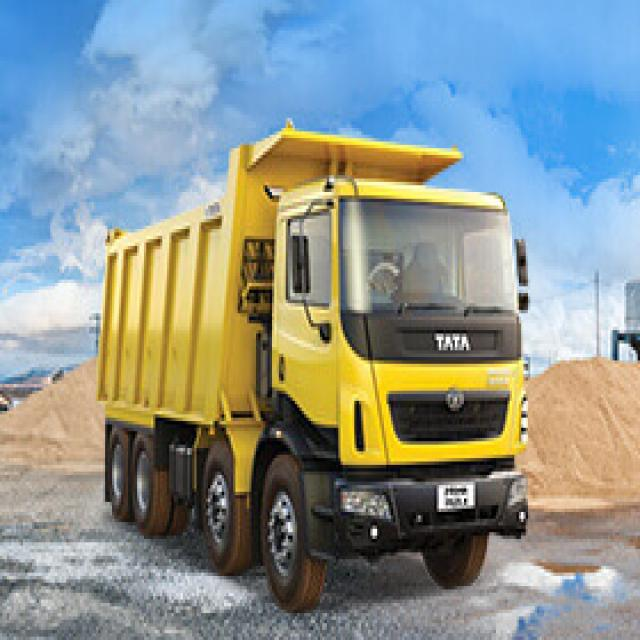dump_truck: (87, 102, 522, 626)
